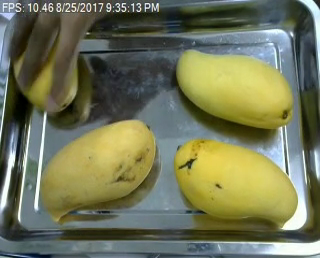Mango: (169, 126, 300, 226), (40, 119, 158, 230), (174, 45, 295, 131)
